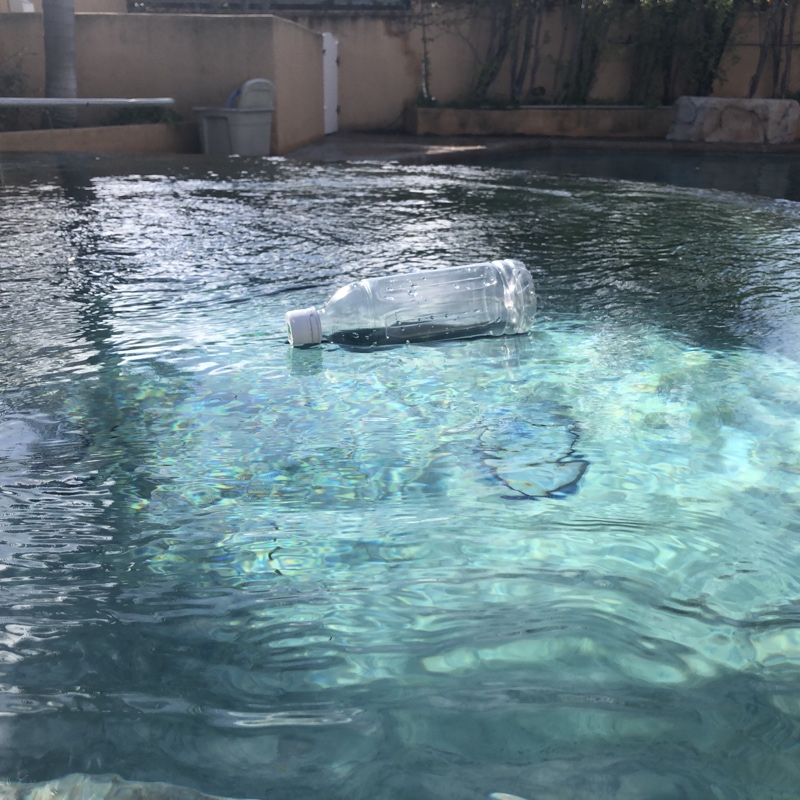Plastic Bottle: (282, 256, 542, 349)
